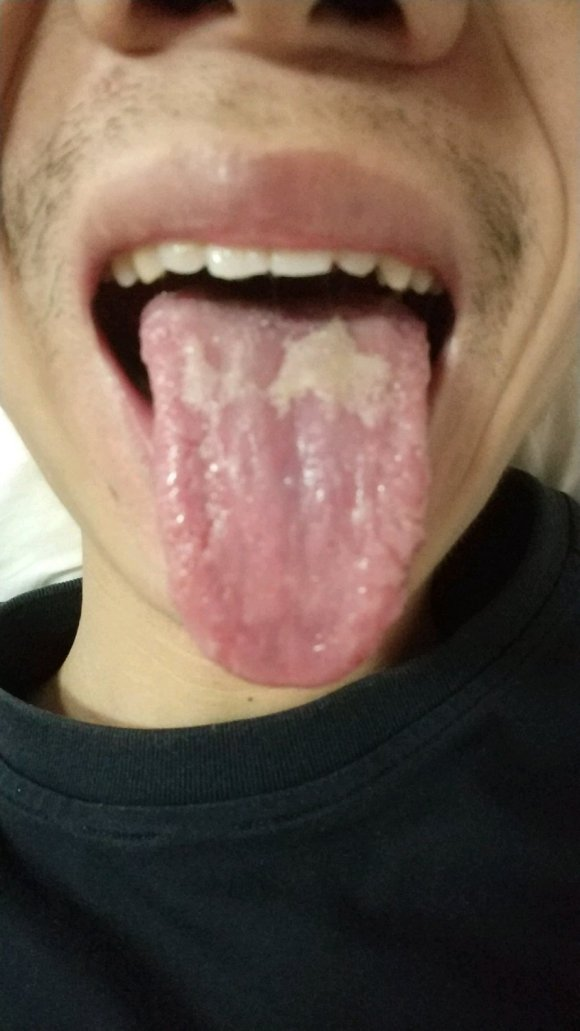botaishe: (172, 308, 398, 434)
huangtaishe: (138, 283, 430, 686)
